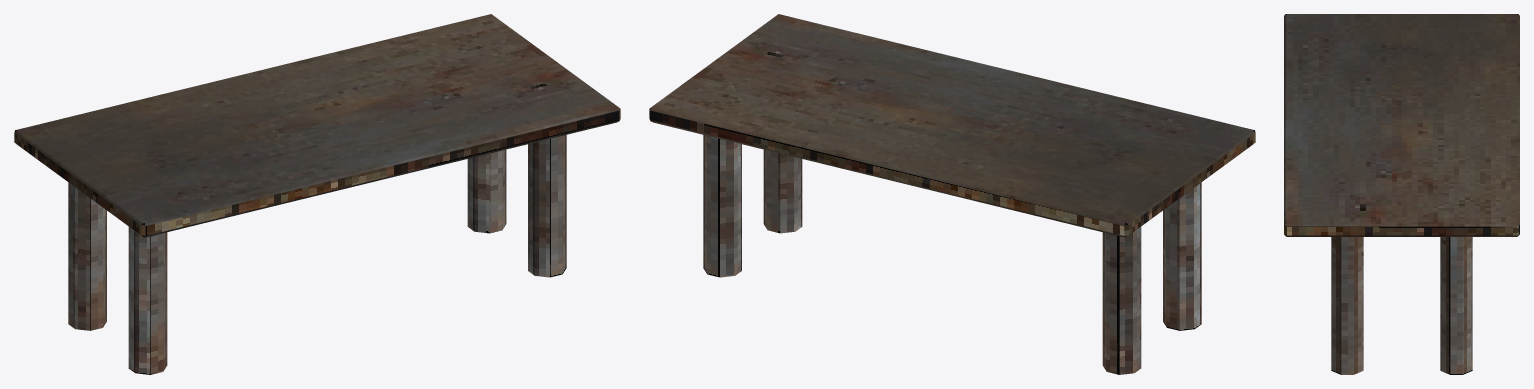
File: metal_table.glb
3 views of the same model, side by side, from view 1: azimuth 30°, elevation 25°; view 2: azimuth 150°, elevation 25°; view 3: azimuth 270°, elevation 25° (orthographic). The views are drawn at different scales.
Visible parts, largest first — view 1: metal_table; view 2: metal_table; view 3: metal_table.
Boxes of the visible parts, x1,y1,x2,y2 form: metal_table: (14,14,620,374); metal_table: (649,14,1255,374); metal_table: (1284,14,1519,374).
Size of the model in its own units: 3.4 by 1.2 by 1.6.
1 material, 1 textured.
